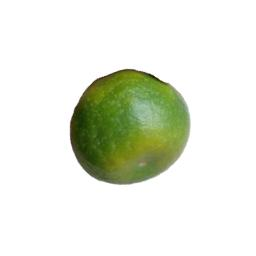Unripe: (71, 71, 189, 184)
